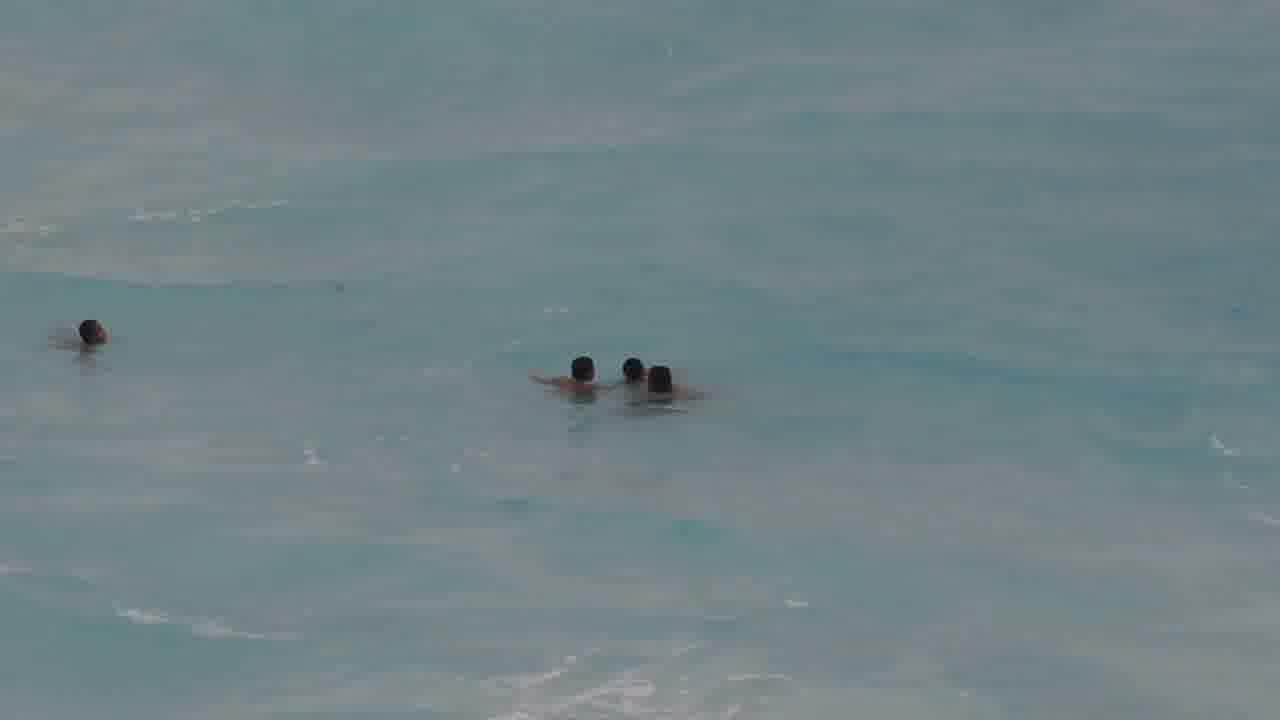human: (519, 352, 606, 395), (645, 357, 707, 410), (46, 315, 117, 357), (614, 349, 646, 387)
